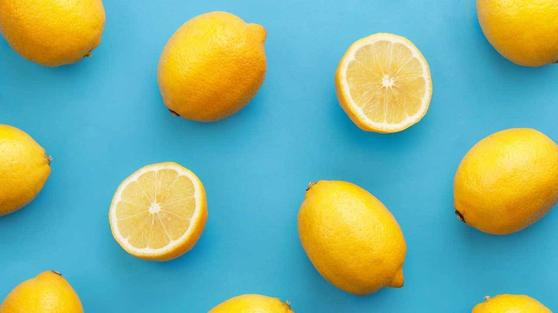lemon: (283, 171, 412, 298), (159, 7, 269, 131), (451, 123, 558, 248), (1, 5, 109, 70)
